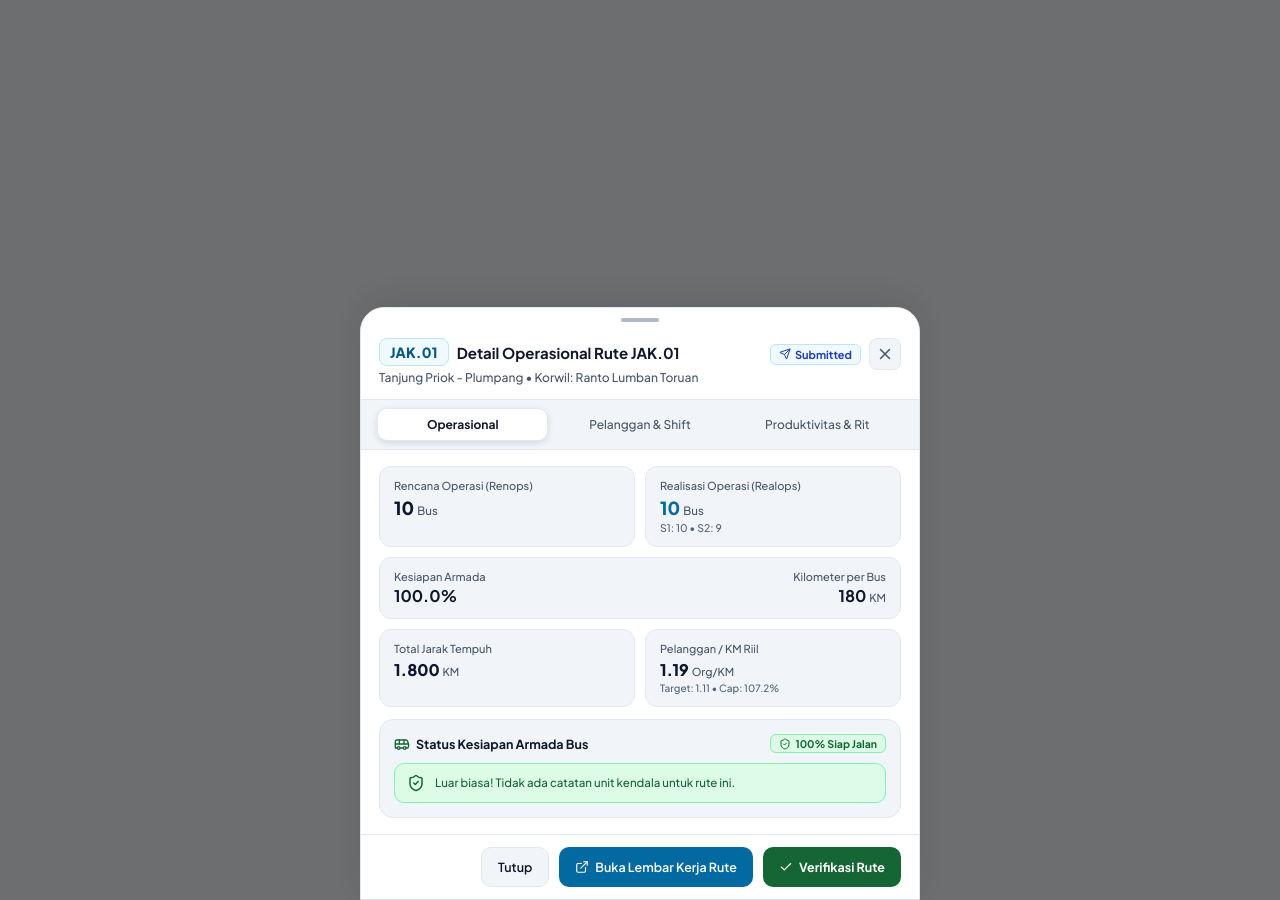
Test: MonitoringRouteDetailModal › ritase metrics calculations and precision › handles total ritase PP fallback: 101 trips -> 50.5 rit without rounding to 51
This screenshot has width=1280, height=900.
What coordinates should you click on to do the following:
click the button with test id "tab-produktivitas"
I would click on:
 (817, 424)
Its box is [732,408,903,441].
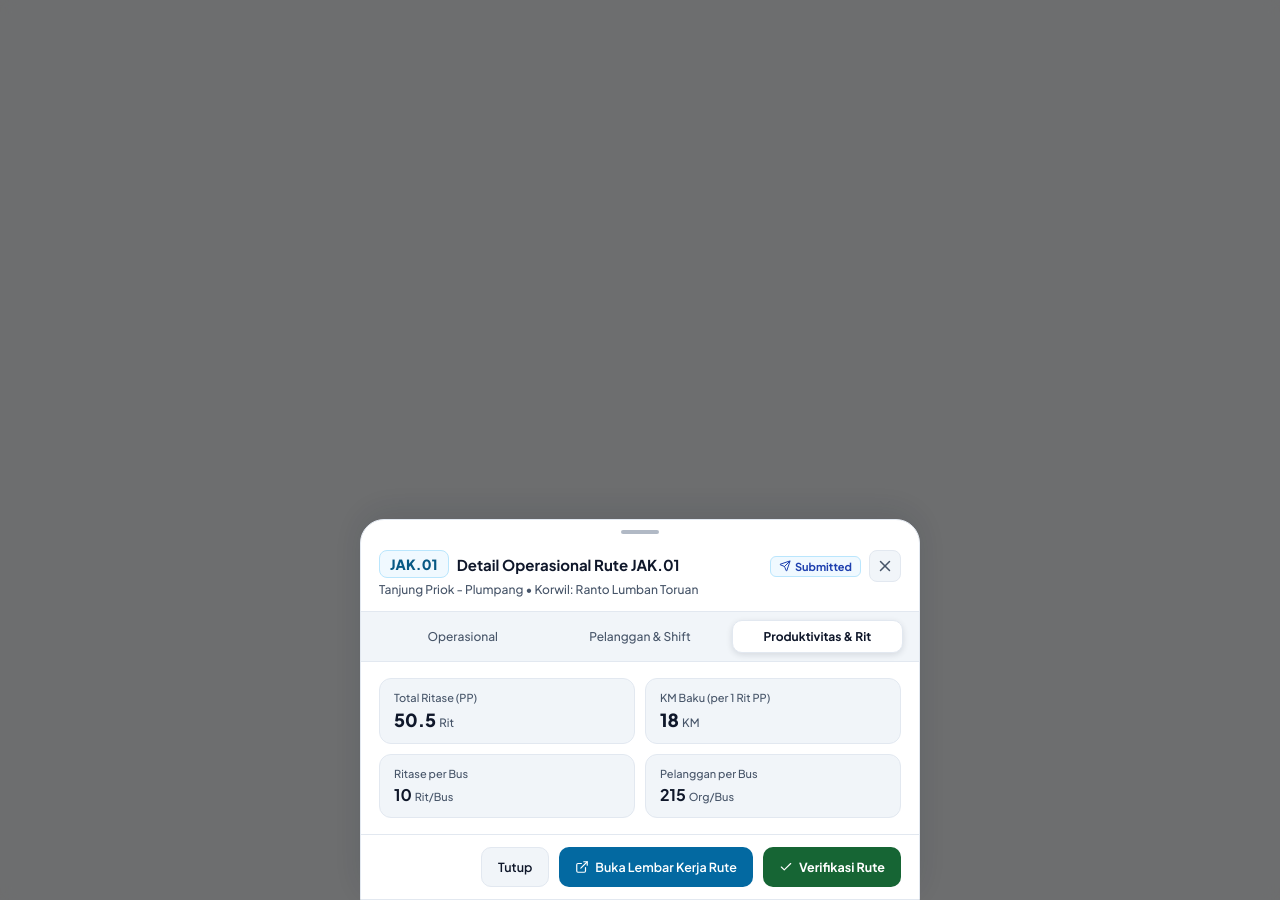
Now the element showing "50.5 Rit" is shown, box [394,708,454,731]
